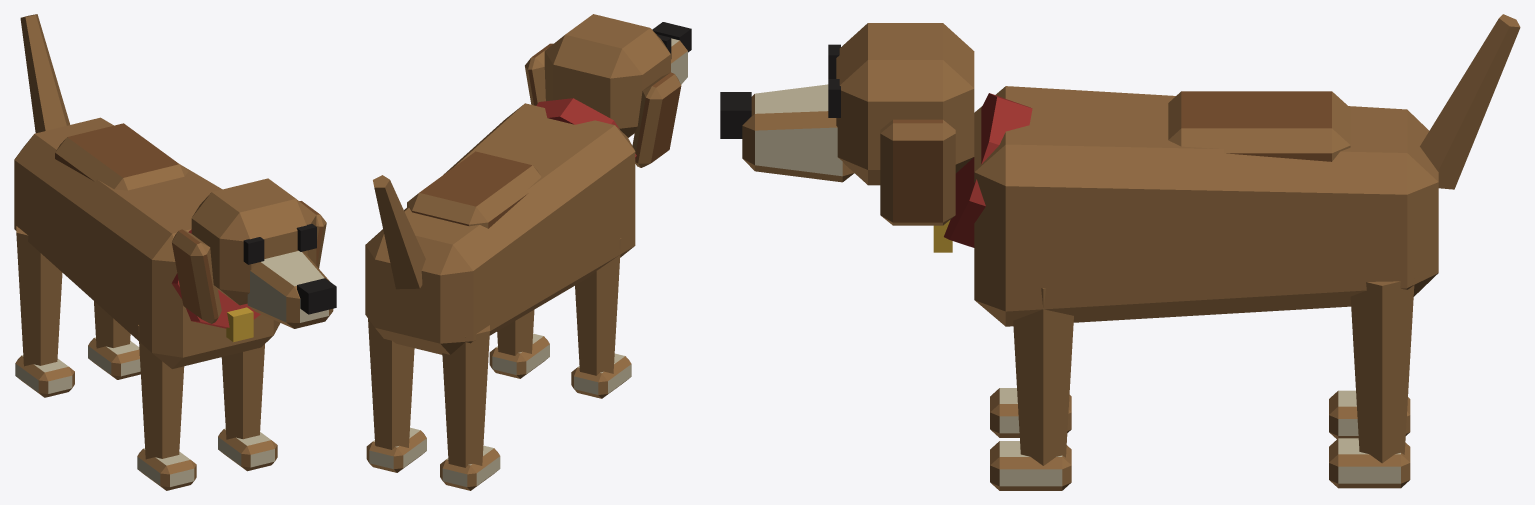
File: stable_hound.glb
3 views of the same model, side by side, from view 1: azimuth 30°, elevation 25°; view 2: azimuth 150°, elevation 25°; view 3: azimuth 270°, elevation 25° (orthographic). The views are drawn at different scales.
Visible parts, largest first — view 1: body, head, leg_br, leg_fr, leg_fl, tail, leg_bl; view 2: body, head, leg_br, leg_bl, leg_fr, tail, leg_fl; view 3: body, head, leg_bl, leg_fl, tail, leg_fr, leg_br.
Part boxes in pixels (box(x1,y1,x2,y2)): body: box(14, 117, 280, 368); head: box(172, 178, 336, 328); leg_br: box(15, 226, 74, 397); leg_fr: box(137, 325, 196, 490); leg_fl: box(218, 344, 277, 471); tail: box(20, 14, 70, 133); leg_bl: box(88, 301, 140, 379); body: box(365, 98, 636, 354); head: box(525, 14, 691, 167); leg_br: box(440, 325, 500, 490); leg_bl: box(366, 319, 426, 472); leg_fr: box(571, 238, 631, 398); tail: box(373, 175, 425, 289); leg_fl: box(489, 310, 549, 378); body: box(933, 86, 1438, 326); head: box(720, 23, 974, 225); leg_bl: box(1329, 278, 1414, 488); leg_fl: box(990, 288, 1073, 490); tail: box(1420, 14, 1520, 189); leg_fr: box(990, 388, 1071, 437); leg_br: box(1329, 390, 1410, 438).
Size of the model in its own units: 0.3381 by 0.774 by 1.28.
